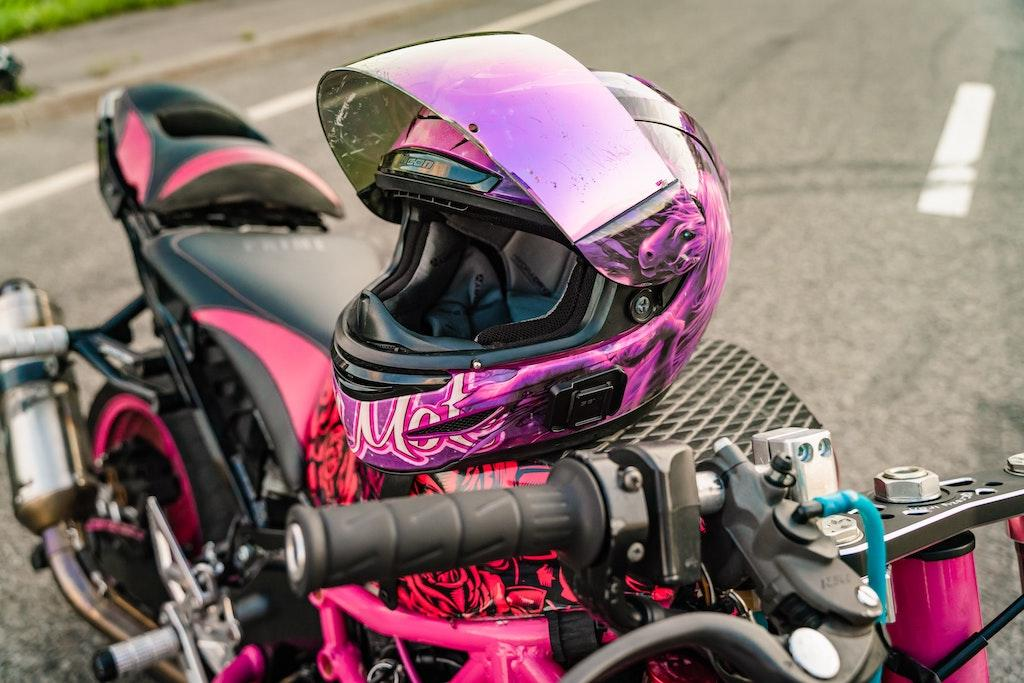helmet: (314, 27, 735, 477)
